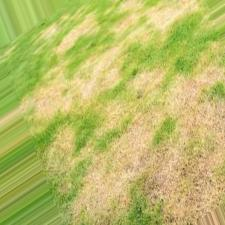patch: (84, 115, 155, 199), (173, 91, 216, 208), (44, 63, 113, 116), (63, 24, 94, 54)
